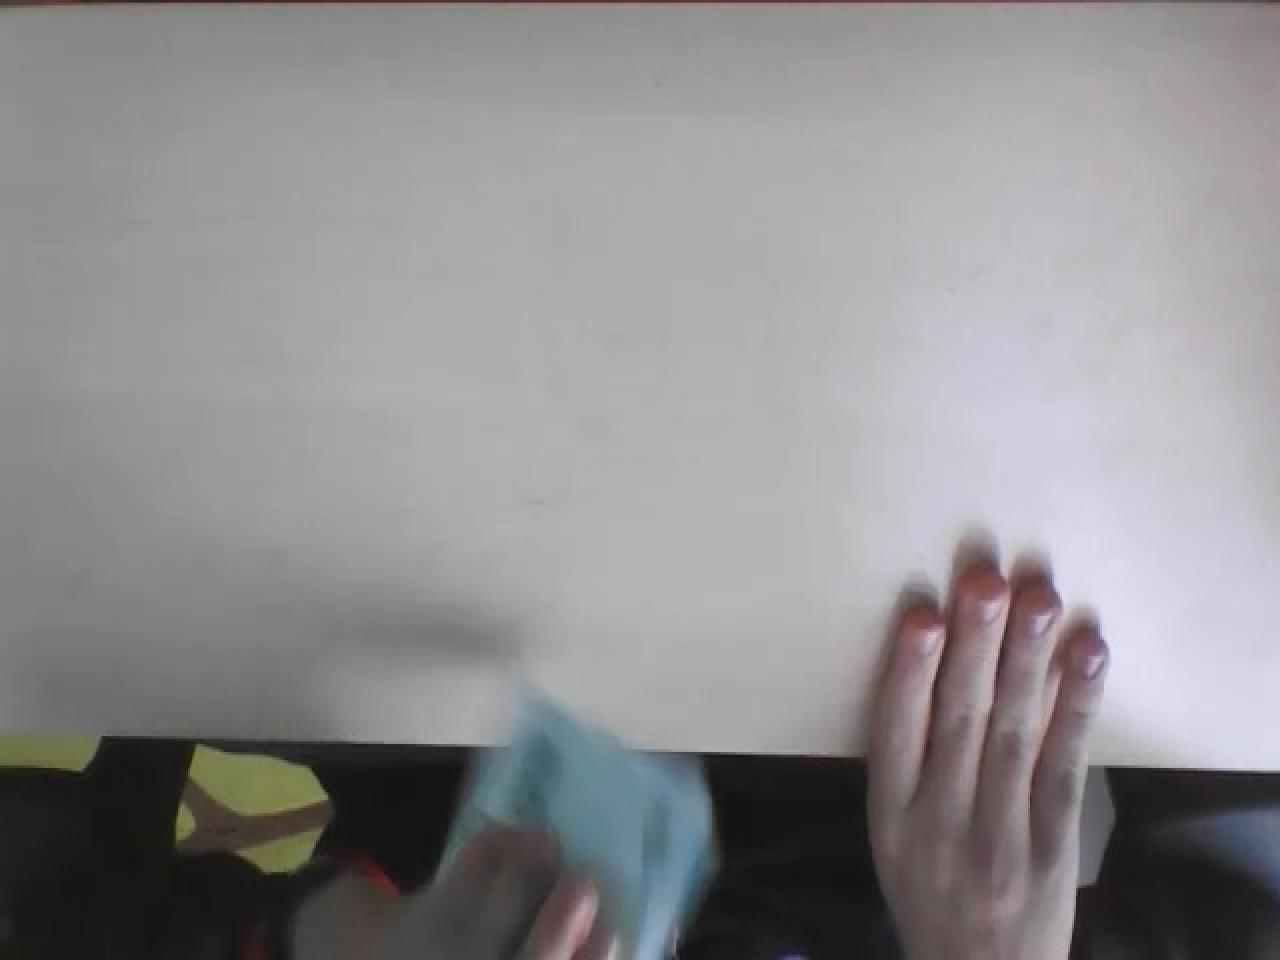100leva: (4, 8, 1278, 782)
